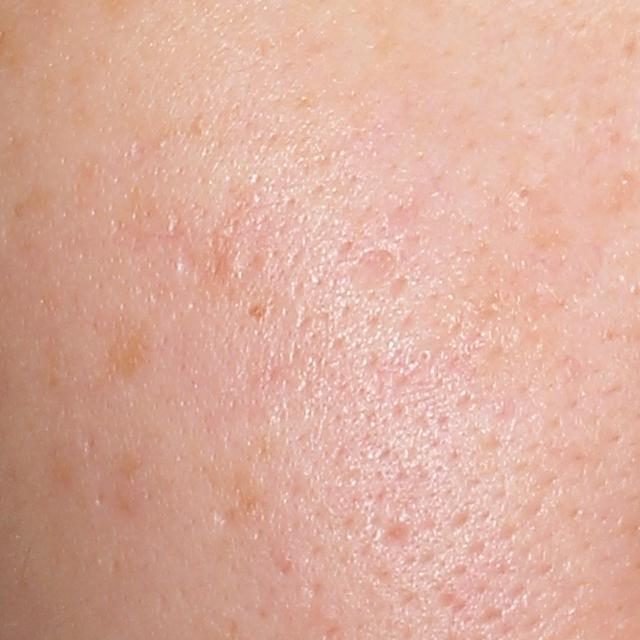atrophic_scar: (169, 218, 243, 293), (346, 243, 402, 294), (374, 520, 416, 551), (208, 507, 236, 534)
comedo: (412, 340, 437, 367), (514, 179, 539, 204)
melasma: (104, 317, 150, 386), (14, 191, 54, 226)
